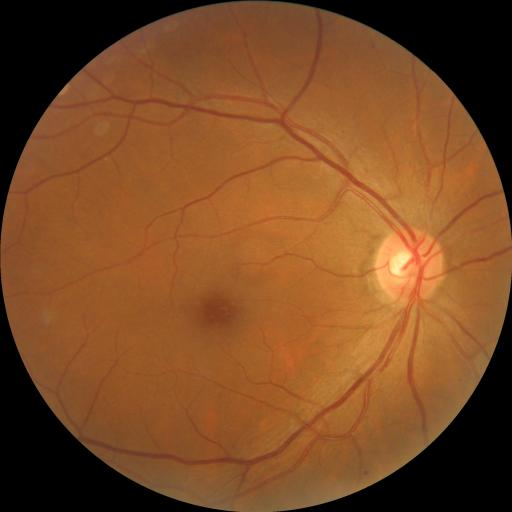Optic Cup: (390, 252, 416, 276)
Optic Disc: (374, 228, 445, 304)
